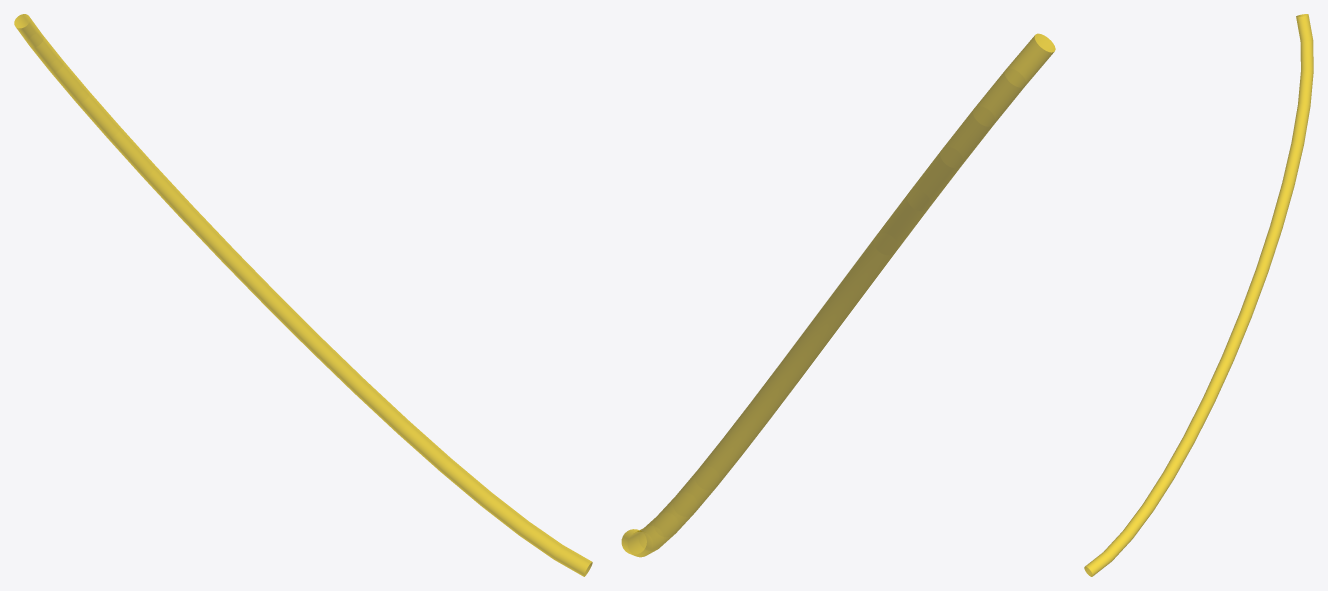
File: Event_100608114_track_55.fbx
The picture shows the model from 3 angles, left to right: view 1: azimuth 30°, elevation 25°; view 2: azimuth 150°, elevation 25°; view 3: azimuth 270°, elevation 25°; orthographic projection. The views are drawn at different scales.
Parts seen in each view (by area): view 1: Model; view 2: Model; view 3: Model.
Boxes of the visible parts, x1=… form: Model: x1=14, y1=14, x2=592, y2=576; Model: x1=621, y1=33, x2=1055, y2=557; Model: x1=1084, y1=14, x2=1313, y2=576.
Bounding box in the file's own units: 1.16 × 1.42 × 0.7141.
